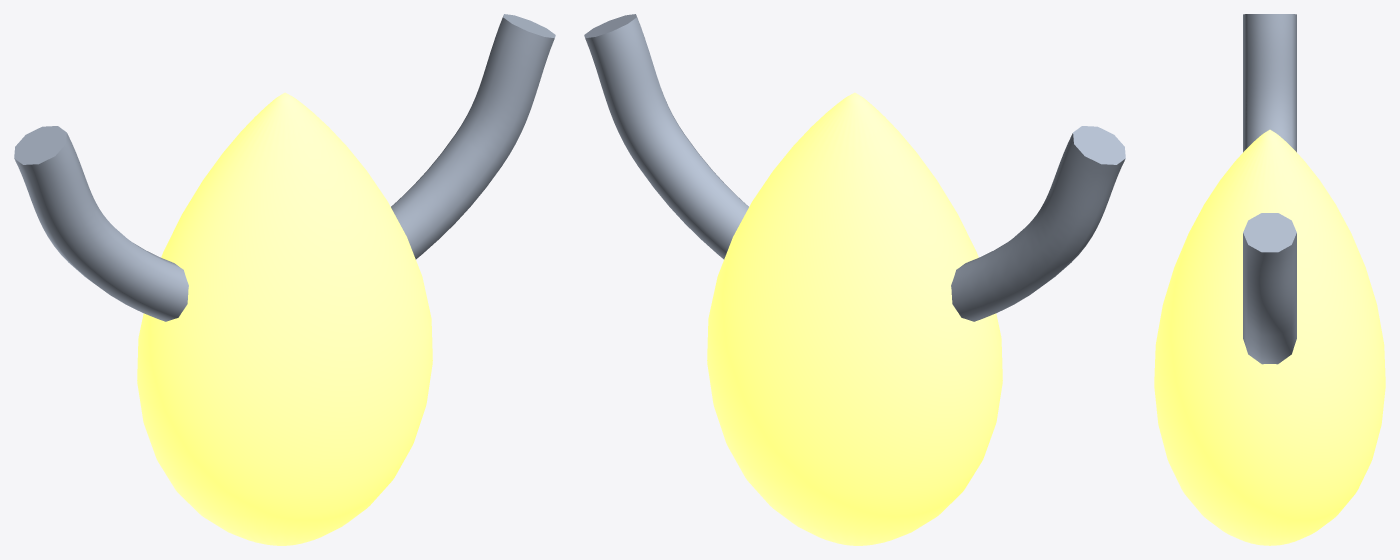
Rendered from MoonSeed.glb.
3 views of the same model, side by side, from view 1: azimuth 30°, elevation 25°; view 2: azimuth 150°, elevation 25°; view 3: azimuth 270°, elevation 25° (orthographic). The views are drawn at different scales.
Parts seen in each view (by area): view 1: Moon seed, Seed silver wings, Seed silver wings.001; view 2: Moon seed, Seed silver wings, Seed silver wings.001; view 3: Moon seed, Seed silver wings, Seed silver wings.001.
Part boxes in pixels (x1,y1,x2,y2): Moon seed: (137, 92, 432, 545); Seed silver wings: (391, 14, 555, 259); Seed silver wings.001: (14, 126, 188, 321); Moon seed: (707, 92, 1002, 545); Seed silver wings: (584, 14, 748, 259); Seed silver wings.001: (951, 126, 1125, 321); Moon seed: (1154, 129, 1385, 545); Seed silver wings: (1243, 213, 1296, 364); Seed silver wings.001: (1243, 14, 1296, 152).
Size of the model in its own units: 1.05 by 0.8788 by 0.4301.
